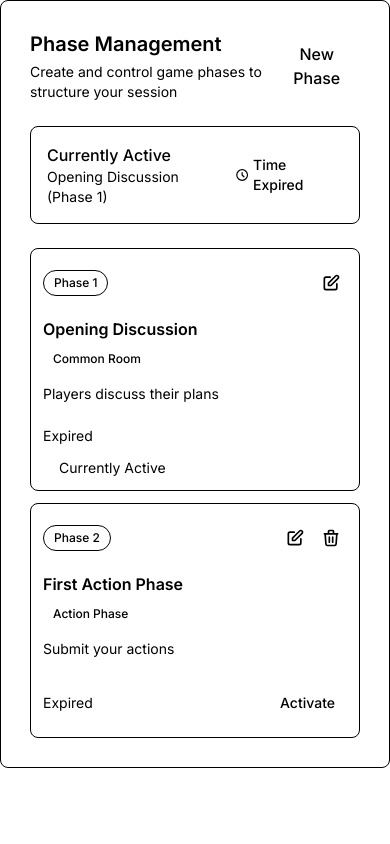
Scenario: PhaseManagement › Phase Activation › should show unpublished results warning when activating
Expected: the text "Action Phase" is shown, [53,606,128,621]
Click the button "Activate". click: (308, 702)
box: [268,680,347,724]
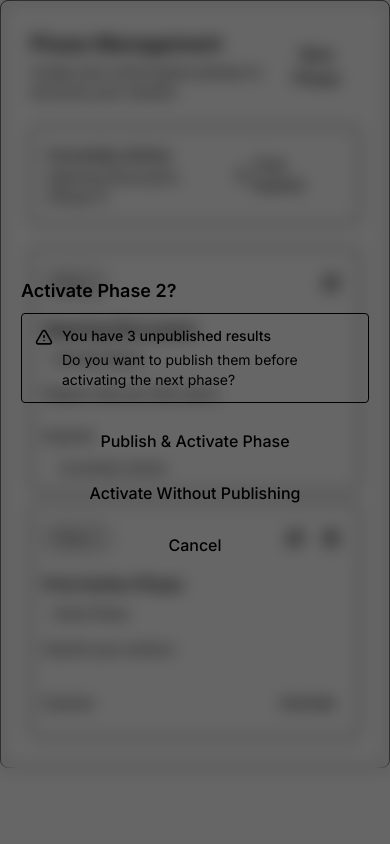
Expected: the text "You have 3 unpublished results" is shown, [62,327,271,344]
Expected: the button "Publish & Activate Phase" is shown, [21,419,369,463]
Expected: the button "Activate Without Publishing" is shown, [21,471,369,515]
